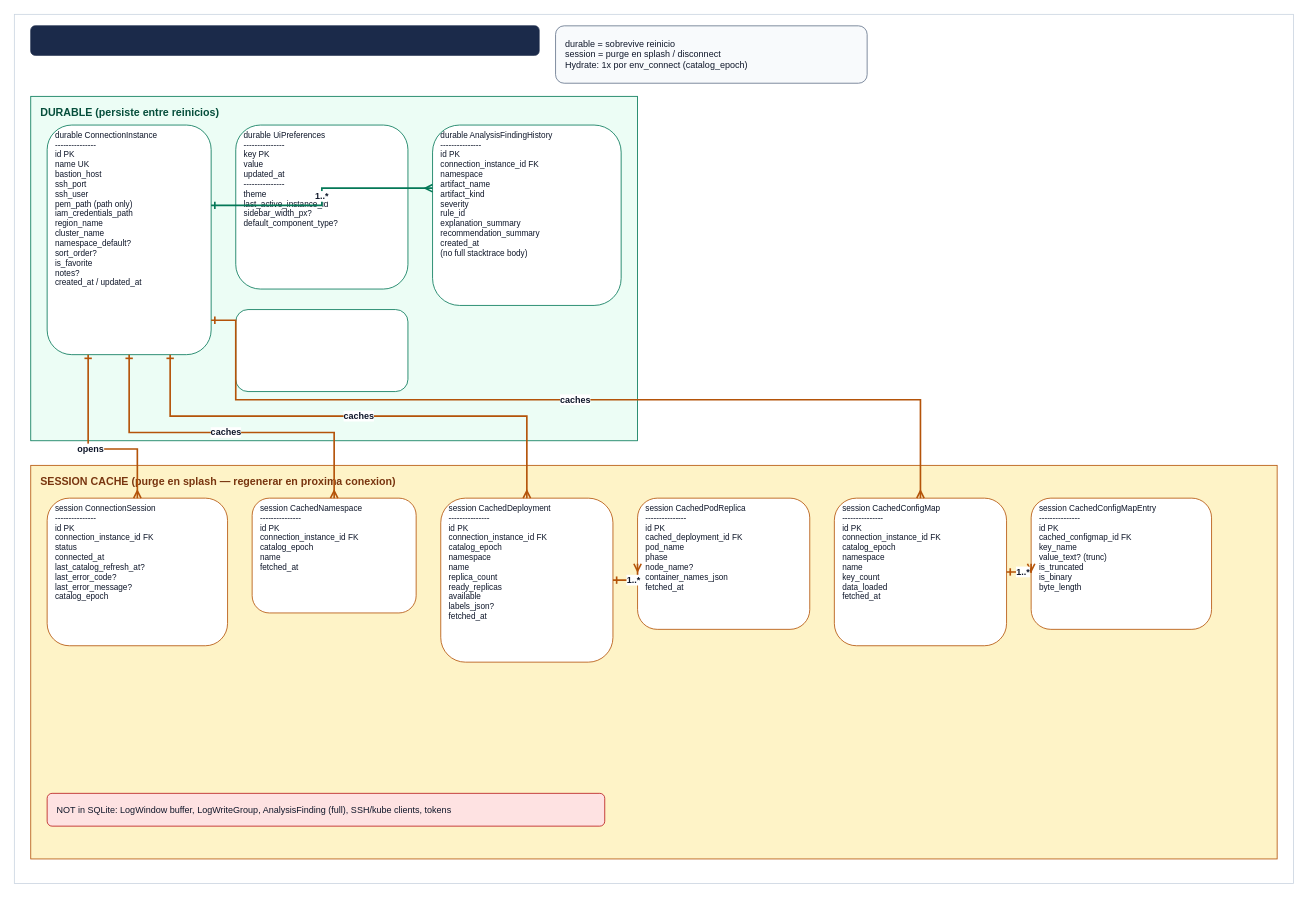
Some shapes in this 1308 by 898 pixel diagram are drawn without their labels. The shapes that lost their labels are listed below. From the top down, each one's centre as x and y in pixels, then its label:
the point at 284,40: Faro — Modelo ER SQLite (durable + session cache)
the point at 321,350: durable SchemaMeta --------------- key PK value (schema_version)
